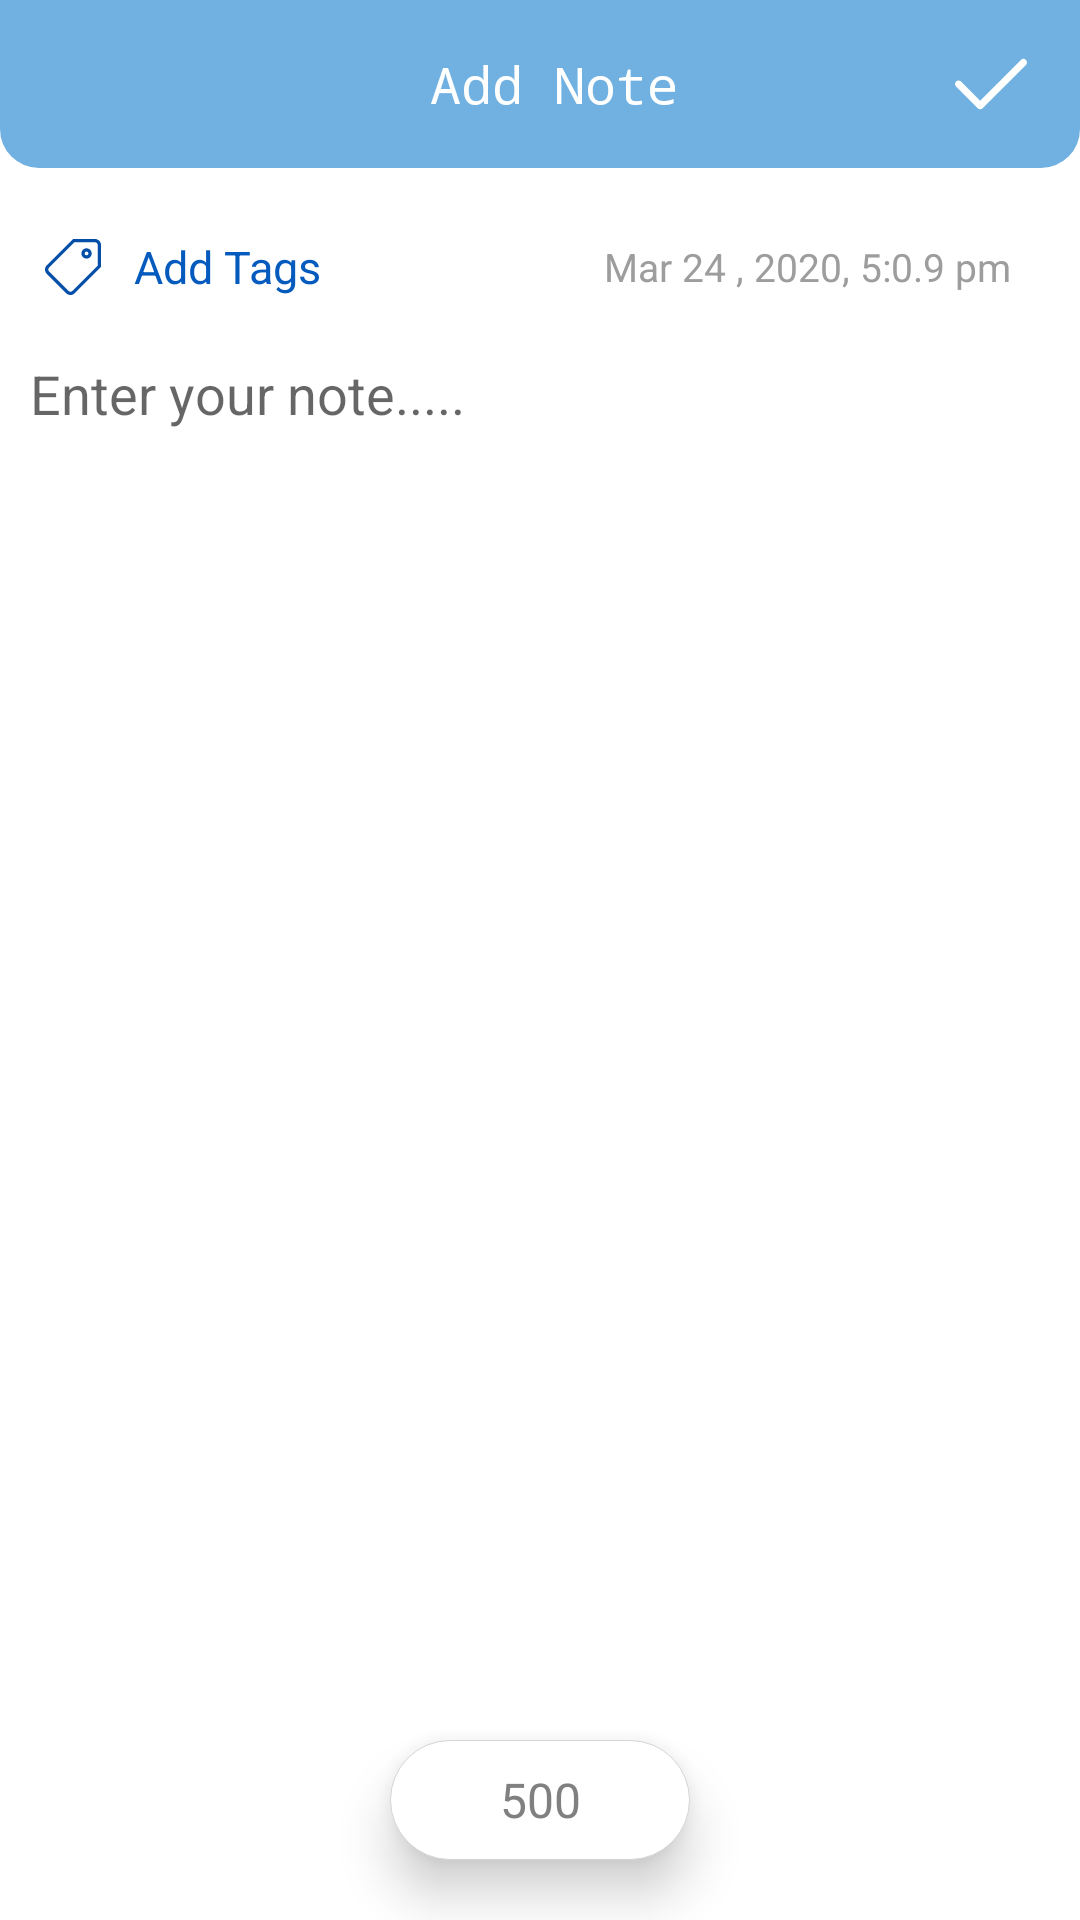

Where to tap for icons on this 1080 × 1920 app screen, as [x,y]:
check: [991,84]
tag: [73,267]
